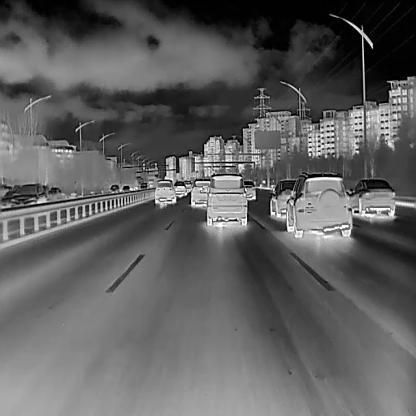car: (284, 171, 351, 237), (205, 171, 248, 226), (347, 177, 395, 216), (269, 177, 300, 218), (9, 182, 48, 209), (153, 177, 176, 205), (190, 177, 211, 207), (241, 178, 256, 201), (172, 179, 187, 197), (47, 186, 62, 199), (184, 178, 193, 191), (121, 184, 132, 194), (109, 183, 120, 193), (147, 176, 156, 186), (139, 182, 148, 190)
